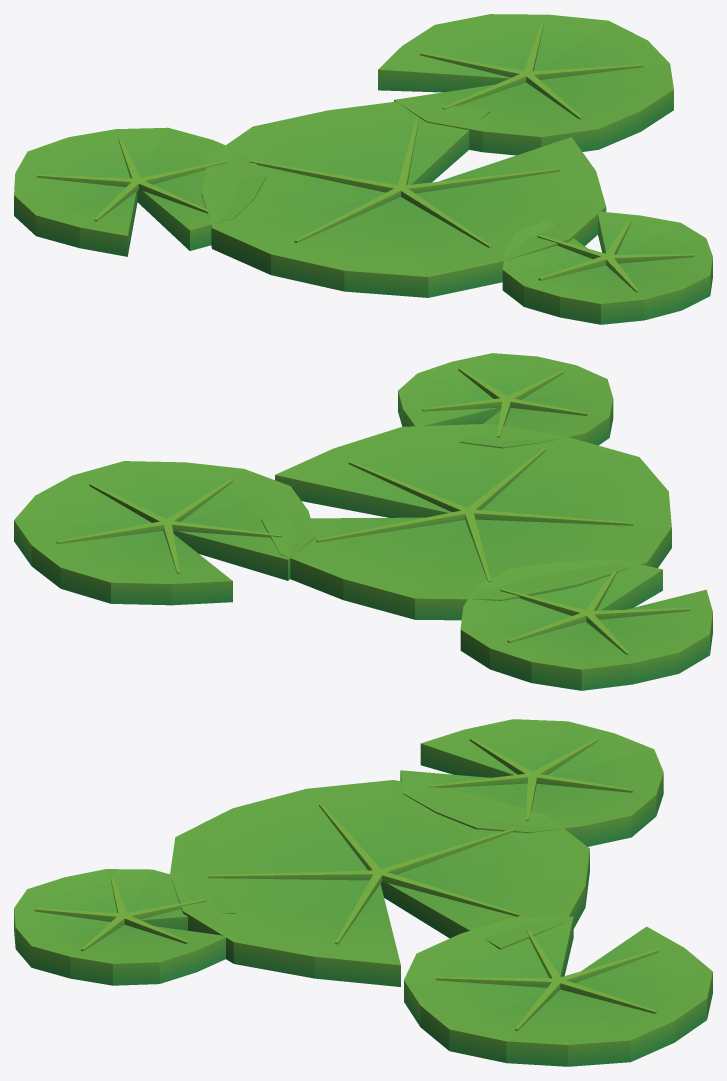
The model's file is lotus_pad.glb.
3 views of the same model, one above another, from view 1: azimuth 30°, elevation 25°; view 2: azimuth 150°, elevation 25°; view 3: azimuth 270°, elevation 25° (orthographic). The views are drawn at different scales.
Visible parts, largest first — view 1: lotus_pad; view 2: lotus_pad; view 3: lotus_pad.
Boxes of the visible parts, x1,y1,x2,y2 form: lotus_pad: (14,14,712,324); lotus_pad: (14,353,712,690); lotus_pad: (14,719,712,1066).
Size of the model in its own units: 1.51 by 0.049 by 1.37.
Materials: 1 (1 with a texture image).
